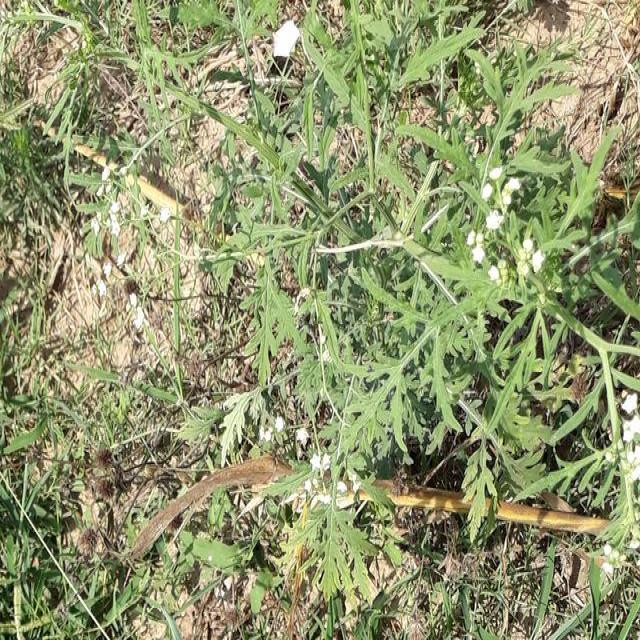weed: (217, 115, 640, 466)
